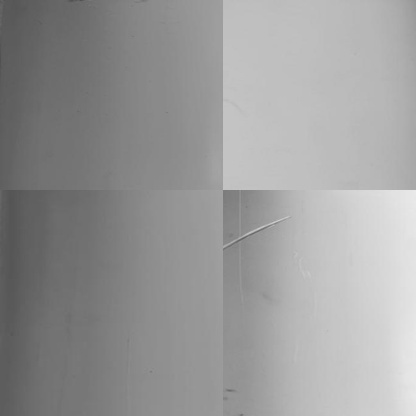sunshang: (224, 213, 289, 252)
